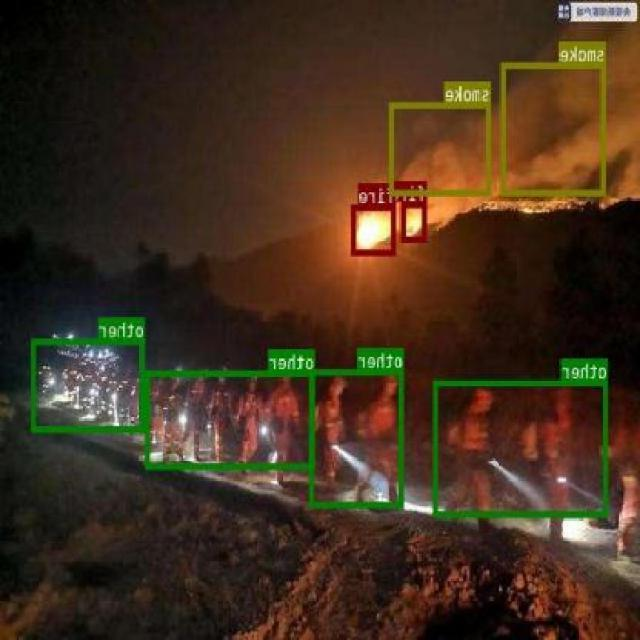Fire: (353, 203, 396, 254), (402, 202, 428, 242)
Smoke: (502, 60, 606, 194), (391, 101, 492, 194)
